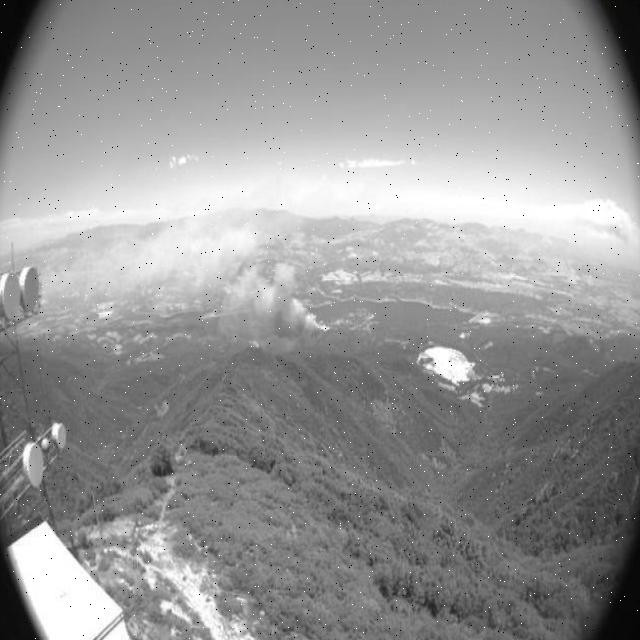smoke: (86, 190, 331, 336)
